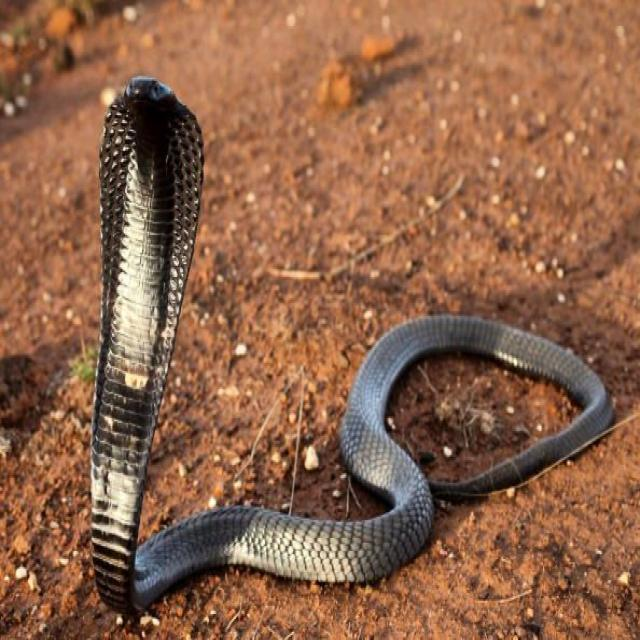snake: (91, 76, 614, 609)
